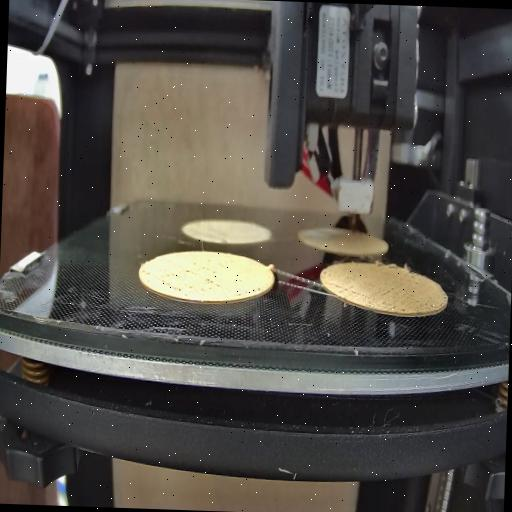under_extrusion: (162, 254, 220, 295), (376, 276, 432, 312), (331, 280, 365, 302), (238, 284, 264, 302)
